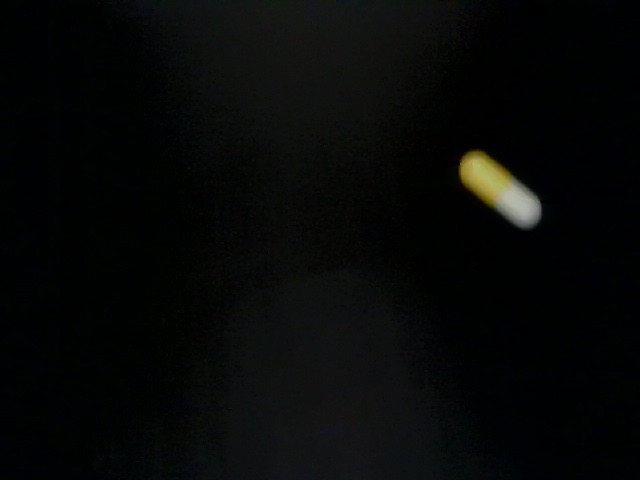YHLJ: (255, 341, 485, 454)
